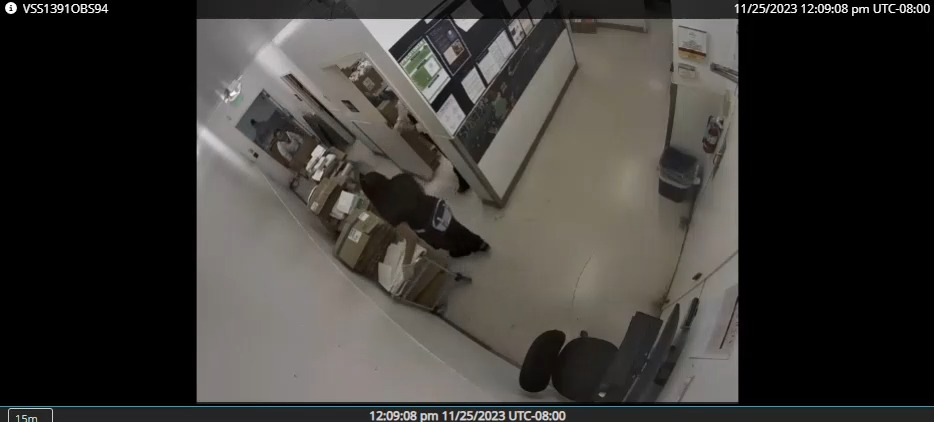gloves: (395, 257, 421, 288)
